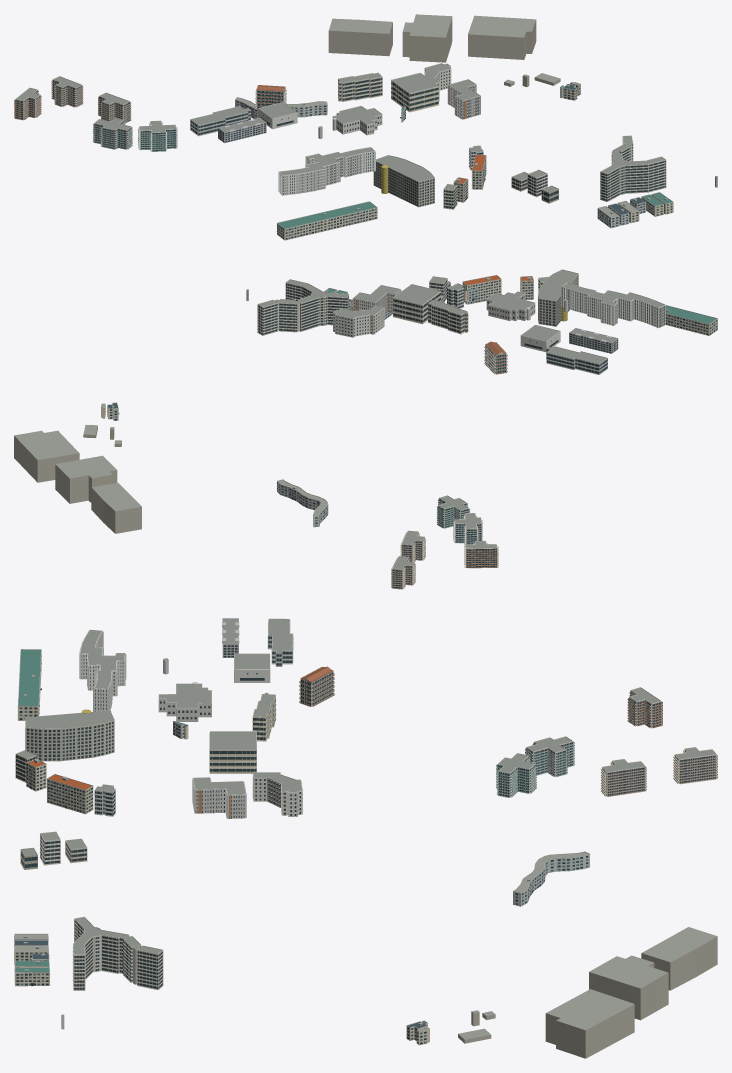
Rendered from zone_1_2-high.glb.
3 views of the same model, one above another, from view 1: azimuth 30°, elevation 25°; view 2: azimuth 150°, elevation 25°; view 3: azimuth 270°, elevation 25° (orthographic). The views are drawn at different scales.
Parts seen in each view (by area): view 1: web_building_1243363293, web_building_135787368, web_building_696387742, web_building_134410719, web_building_135787386, web_building_135787385, web_building_134410446, web_building_134408687, web_building_134408688, web_building_174133712, web_building_134409111, web_building_135265376 (+12 smaller); view 2: web_building_696387742, web_building_1243363293, web_building_135787368, web_building_135787385, web_building_135787386, web_building_134410719, web_building_134409115, web_building_134408687, web_building_134408688, web_building_134408690, web_building_134410446, web_building_174133712 (+11 smaller); view 3: web_building_135787368, web_building_696387742, web_building_134410719, web_building_135787385, web_building_135787386, web_building_1243363293, web_building_134408687, web_building_134409111, web_building_134409115, web_building_134408688, web_building_230172683, web_building_134410446 (+11 smaller).
Boxes of the visible parts, x1,y1,x2,y2 form: web_building_1243363293: (278, 147, 375, 195); web_building_135787368: (468, 15, 536, 59); web_building_696387742: (600, 135, 666, 201); web_building_134410719: (373, 155, 434, 207); web_building_135787386: (328, 18, 392, 56); web_building_135787385: (402, 14, 452, 62); web_building_134410446: (277, 201, 377, 240); web_building_134408687: (391, 72, 438, 112); web_building_134408688: (332, 105, 382, 135); web_building_174133712: (338, 72, 382, 101); web_building_134409111: (447, 79, 480, 119); web_building_135265376: (93, 118, 132, 149); web_building_696387742: (257, 279, 349, 335); web_building_1243363293: (561, 282, 665, 327); web_building_135787368: (14, 430, 79, 482); web_building_135787385: (55, 455, 117, 503); web_building_135787386: (91, 482, 141, 533); web_building_134410719: (538, 269, 578, 326); web_building_134409115: (333, 305, 384, 337); web_building_134408687: (392, 284, 441, 324); web_building_134408688: (486, 291, 535, 320); web_building_134408690: (546, 346, 607, 374); web_building_134410446: (666, 305, 717, 335); web_building_174133712: (427, 299, 468, 334); web_building_135787368: (545, 989, 634, 1058); web_building_696387742: (72, 916, 163, 990); web_building_134410719: (25, 709, 114, 761); web_building_135787385: (589, 955, 668, 1020); web_building_135787386: (641, 927, 717, 990); web_building_1243363293: (79, 629, 126, 711); web_building_134408687: (209, 731, 256, 773); web_building_134409111: (192, 777, 246, 818); web_building_134409115: (252, 772, 303, 816); web_building_134408688: (158, 682, 211, 721); web_building_230172683: (513, 851, 589, 906); web_building_134410446: (17, 649, 41, 720).
Size of the model in its own units: 629 by 157 by 603.
